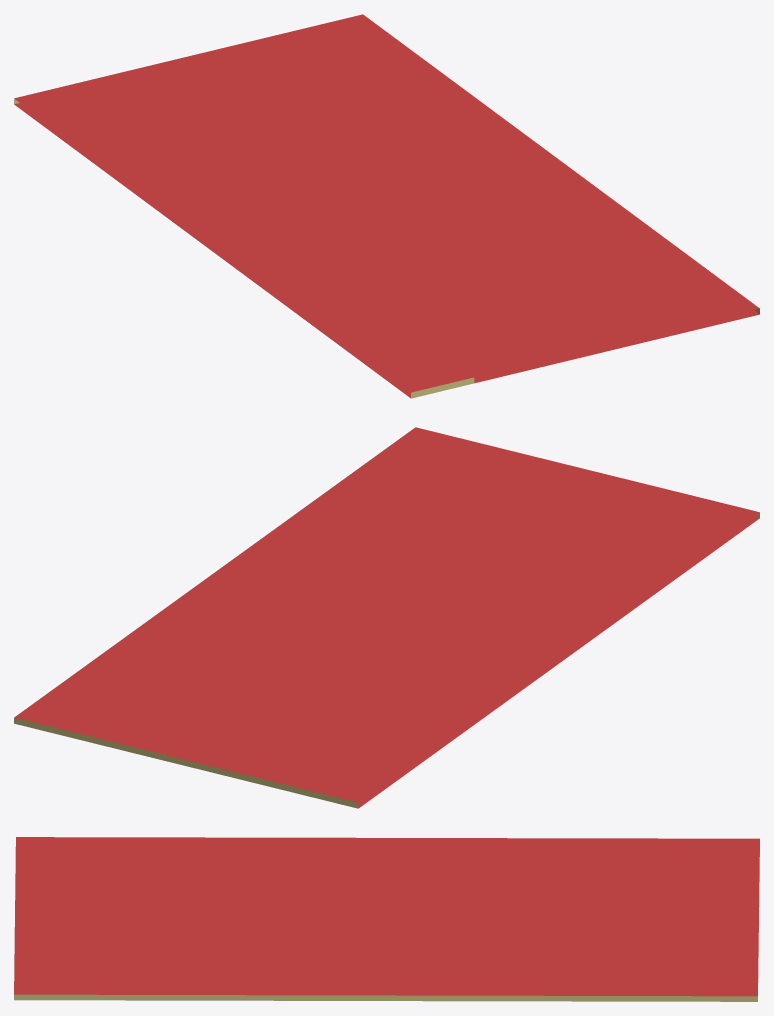
The picture shows the model from 3 angles, top to bottom: view 1: azimuth 30°, elevation 25°; view 2: azimuth 150°, elevation 25°; view 3: azimuth 270°, elevation 25°; orthographic projection. The views are drawn at different scales.
Size of the model in its own units: 6.09 by 12.06 by 0.1.
